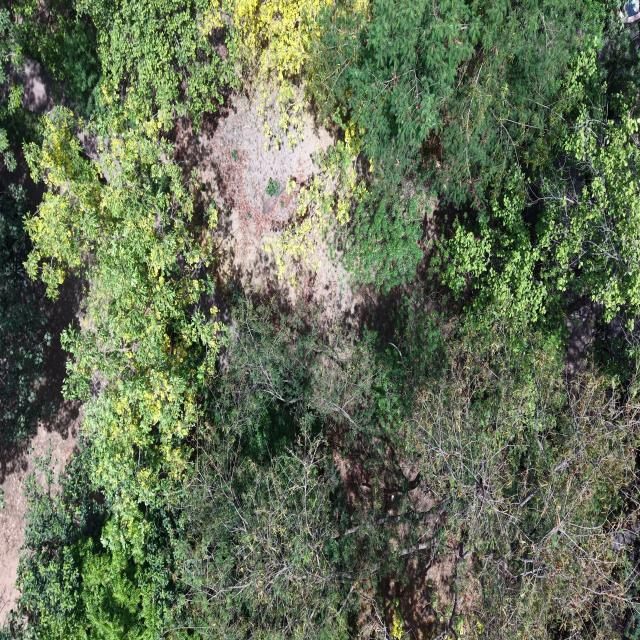DRY_AREA: (175, 95, 401, 330), (176, 96, 389, 331), (175, 96, 388, 328), (175, 96, 380, 329), (175, 94, 380, 326), (176, 96, 361, 326), (176, 96, 354, 324), (176, 96, 332, 289), (333, 441, 481, 639), (0, 279, 82, 623), (0, 280, 82, 623), (0, 407, 81, 621), (384, 537, 481, 639), (565, 299, 602, 375), (16, 60, 55, 113)
VEGETATION_TREE: (0, 0, 639, 639), (21, 102, 220, 637), (310, 0, 615, 285), (396, 309, 638, 637), (178, 299, 348, 638), (439, 48, 639, 330), (0, 9, 49, 447), (75, 0, 234, 128), (230, 0, 327, 147), (0, 183, 49, 445), (10, 0, 99, 116)
